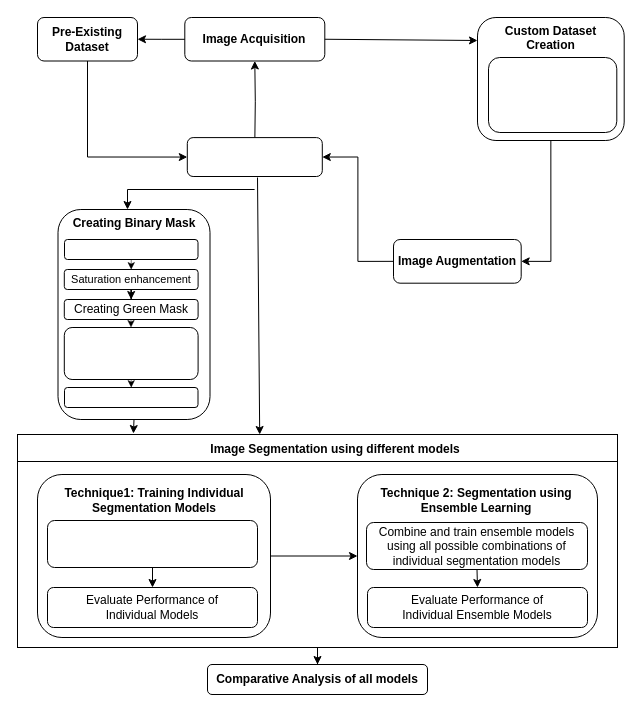
The diagram is 642 pixels wide and 712 high, and some of its shapes have lost their labels. The centre of each missing label's shape, as x and y in pixels:
Applying Green Mask to extract only green regions of image: the point at 130,353
Binary mask Conversion: the point at 131,397
Contrast enhancement: the point at 131,249
Image Preprocessing: the point at 254,156
Taking aerial images of different areas over time via Google Earth Pro: the point at 552,94
Train Segmentation Models (Unet, DeepLabV3+, Segnet): the point at 152,544
